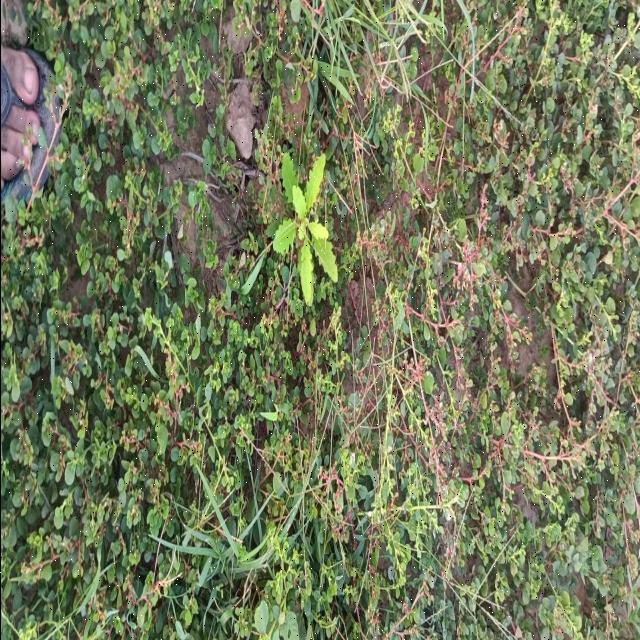plant: (271, 152, 336, 303)
